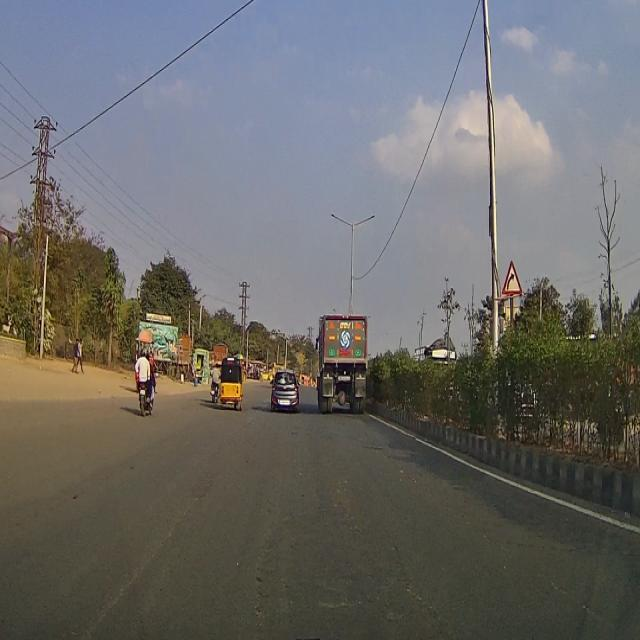right-hand-curve: (501, 256, 523, 301)
